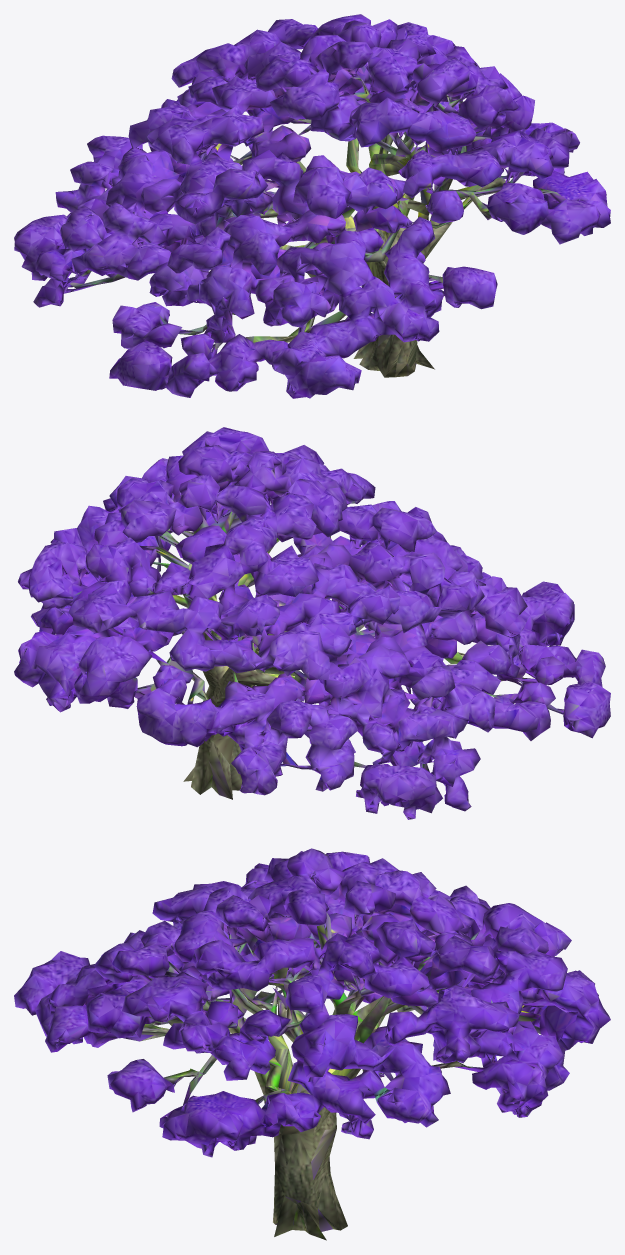
The model's file is JacarandaTree_Right_LOD1.fbx.
The picture shows the model from 3 angles, top to bottom: view 1: azimuth 30°, elevation 25°; view 2: azimuth 150°, elevation 25°; view 3: azimuth 270°, elevation 25°; orthographic projection. The views are drawn at different scales.
Visible parts, largest first — view 1: mesh_node; view 2: mesh_node; view 3: mesh_node.
Boxes of the visible parts, bbox=[...] form: mesh_node: bbox=[14, 14, 610, 398]; mesh_node: bbox=[14, 427, 610, 819]; mesh_node: bbox=[14, 848, 610, 1240].
Bounding box in the file's own units: 13.83 × 9 × 13.86.
1 material, 1 textured.
